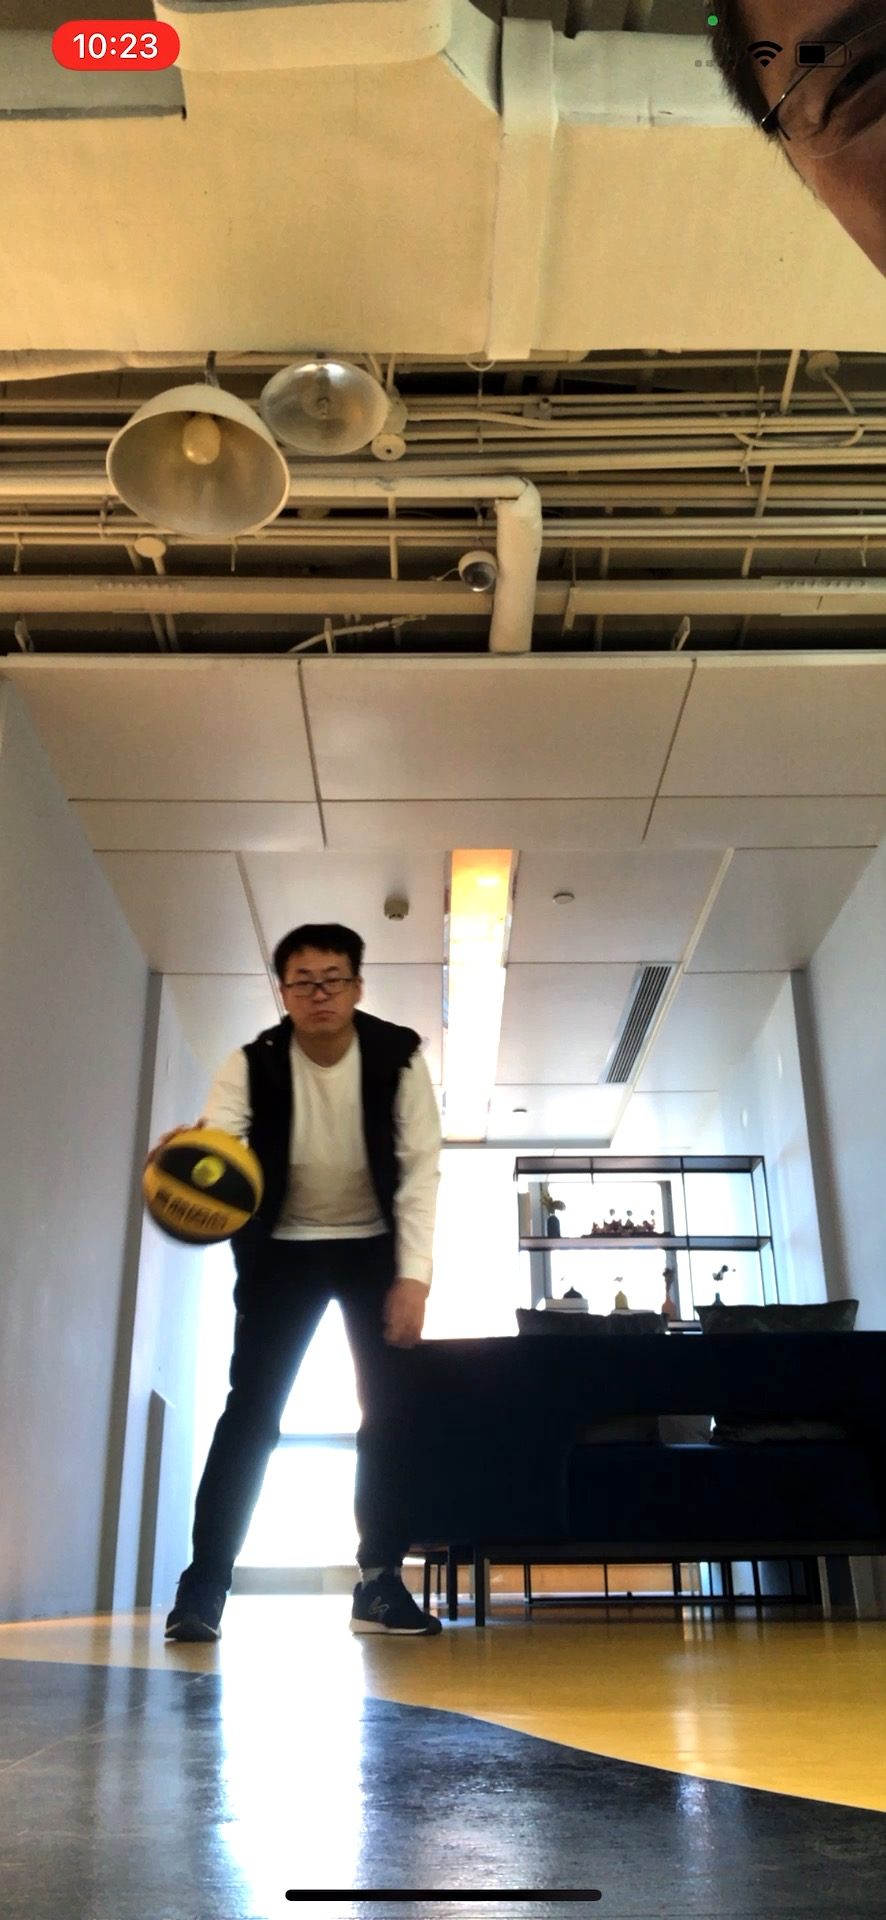ball: (140, 1127, 266, 1247)
